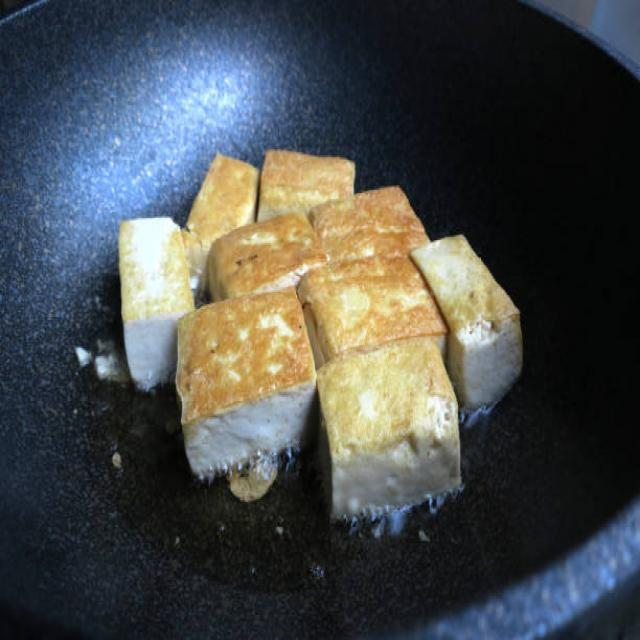Tofu Block: (172, 286, 317, 484), (322, 342, 464, 528), (440, 228, 529, 418), (113, 210, 183, 369), (255, 144, 352, 225)
